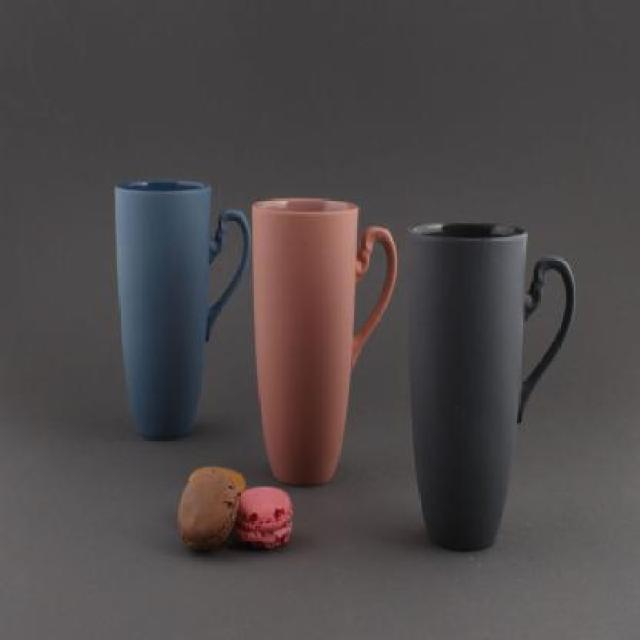cup: (402, 215, 578, 553), (249, 191, 399, 488), (111, 175, 251, 442)
